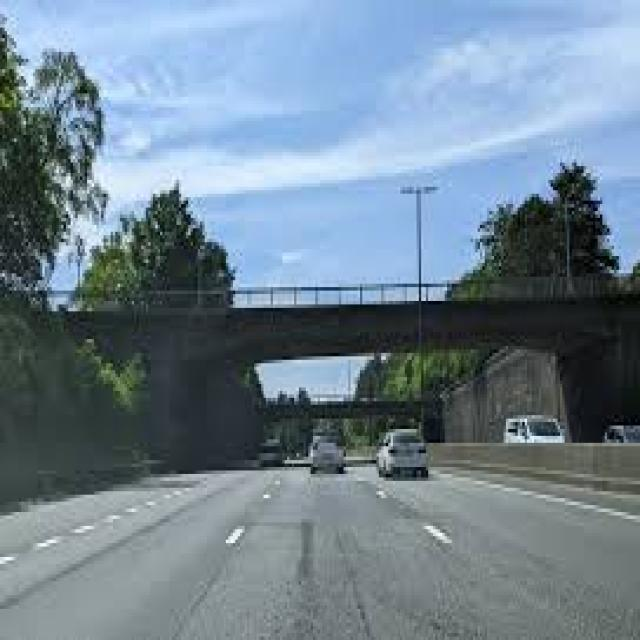Bridges: (3, 193, 638, 512)
